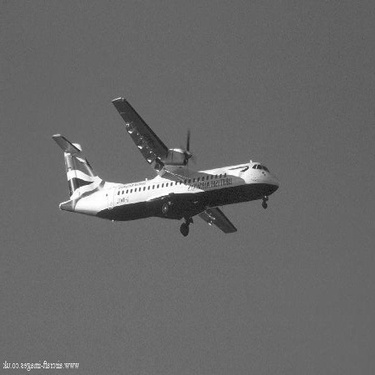airplane: (23, 85, 295, 243)
